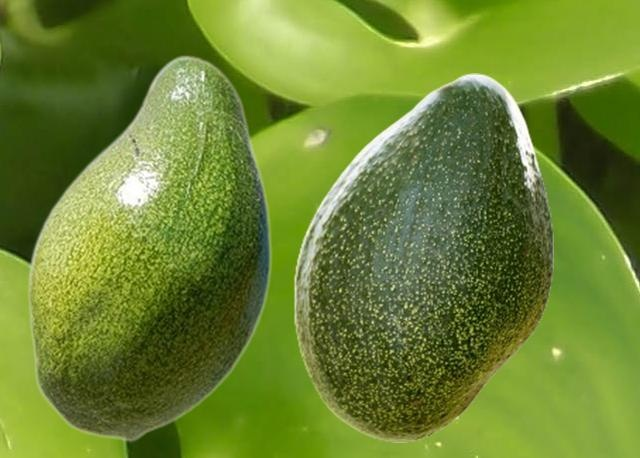avocado: (293, 73, 552, 441), (27, 54, 272, 441)
